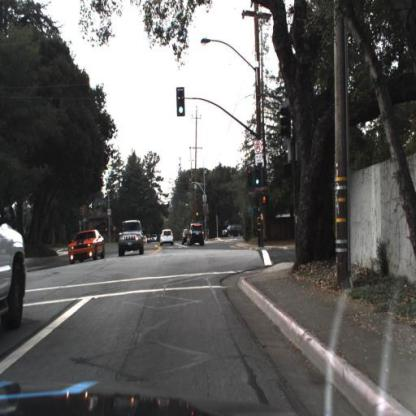car: (1, 206, 29, 341), (67, 226, 108, 268), (68, 230, 106, 266), (119, 219, 145, 258), (188, 224, 206, 248), (221, 225, 243, 239), (161, 229, 175, 247), (181, 229, 190, 247)
trafficLight-Green: (177, 87, 185, 116), (255, 167, 263, 188)
